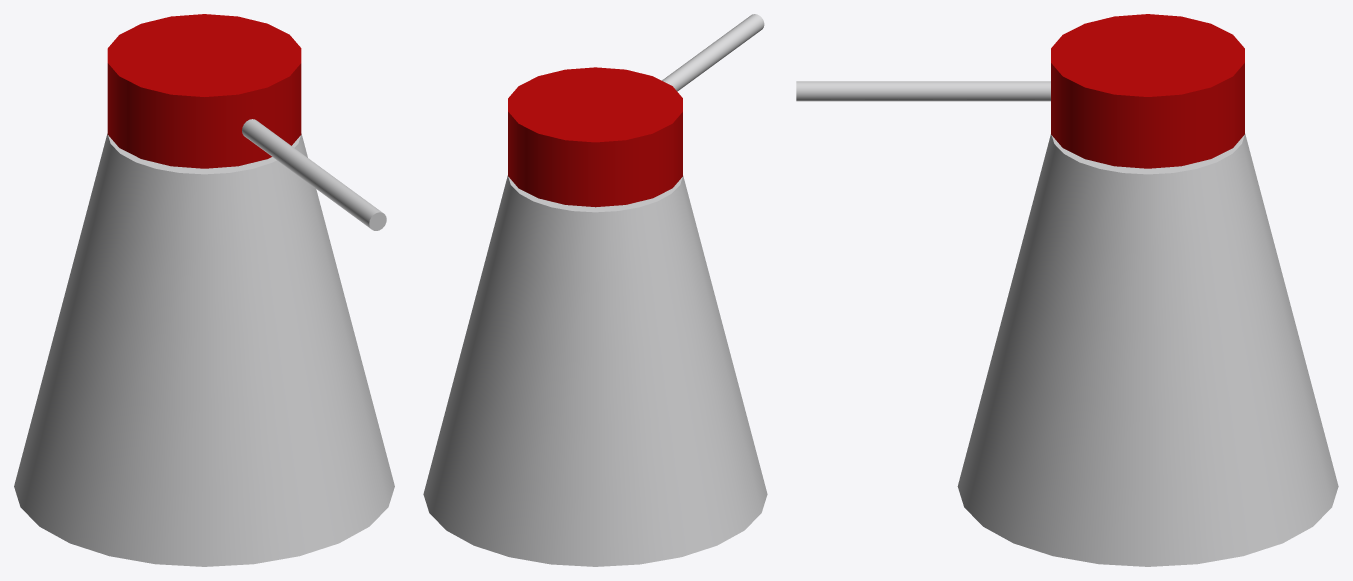
File: Turret.fbx
3 views of the same model, side by side, from view 1: azimuth 30°, elevation 25°; view 2: azimuth 150°, elevation 25°; view 3: azimuth 270°, elevation 25° (orthographic). The views are drawn at different scales.
Parts seen in each view (by area): view 1: Cone001, Cylinder001, Cylinder002; view 2: Cone001, Cylinder001, Cylinder002; view 3: Cone001, Cylinder001, Cylinder002.
Boxes of the visible parts, bbox=[...] form: Cone001: bbox=[14, 133, 394, 566]; Cylinder001: bbox=[107, 14, 301, 168]; Cylinder002: bbox=[242, 119, 386, 230]; Cone001: bbox=[423, 175, 767, 566]; Cylinder001: bbox=[508, 67, 682, 207]; Cylinder002: bbox=[662, 14, 764, 91]; Cone001: bbox=[957, 133, 1338, 566]; Cylinder001: bbox=[1051, 14, 1244, 168]; Cylinder002: bbox=[796, 81, 1050, 101].
Size of the model in its own units: 66.64 by 83.18 by 94.86.
